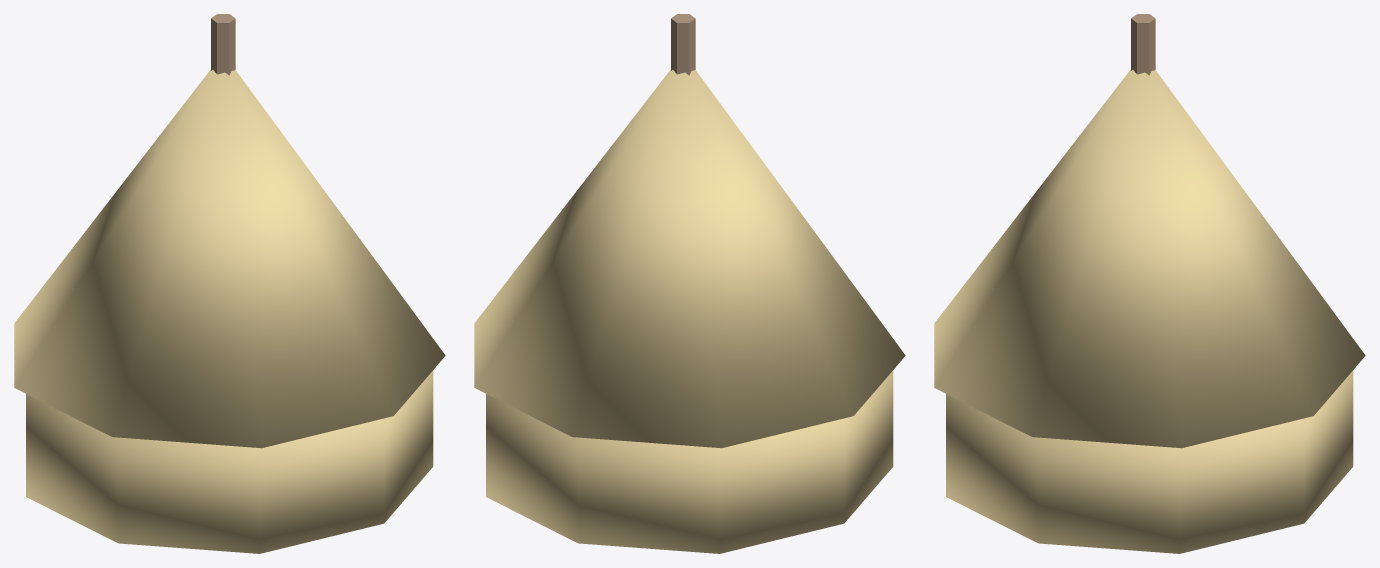
File: haystack.glb
3 views of the same model, side by side, from view 1: azimuth 30°, elevation 25°; view 2: azimuth 150°, elevation 25°; view 3: azimuth 270°, elevation 25° (orthographic).
Visible parts, largest first — view 1: haystack_hay, haystack_stake; view 2: haystack_hay, haystack_stake; view 3: haystack_hay, haystack_stake.
Part boxes in pixels (box(x1,y1,x2,y2)): haystack_hay: box(14, 69, 445, 553); haystack_stake: box(211, 14, 235, 75); haystack_hay: box(474, 69, 905, 553); haystack_stake: box(671, 14, 695, 75); haystack_hay: box(934, 69, 1365, 553); haystack_stake: box(1131, 14, 1155, 75).
Bounding box in the file's own units: 0.5909 × 0.6667 × 0.5819.
